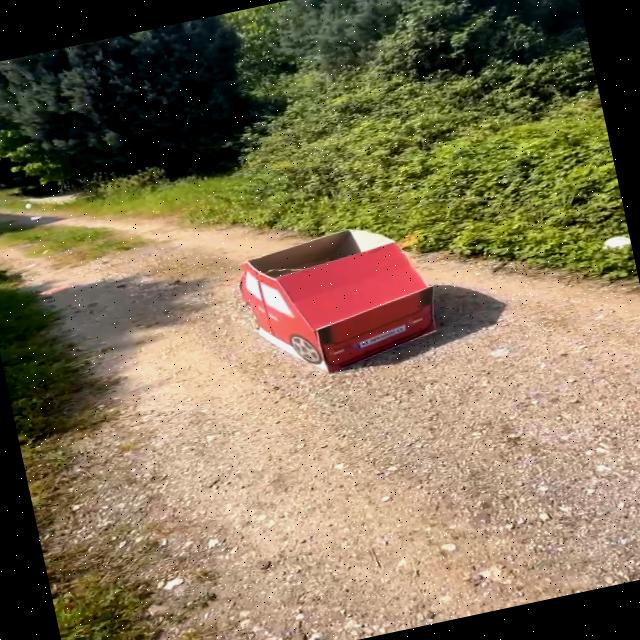red_car: (196, 194, 494, 404)
